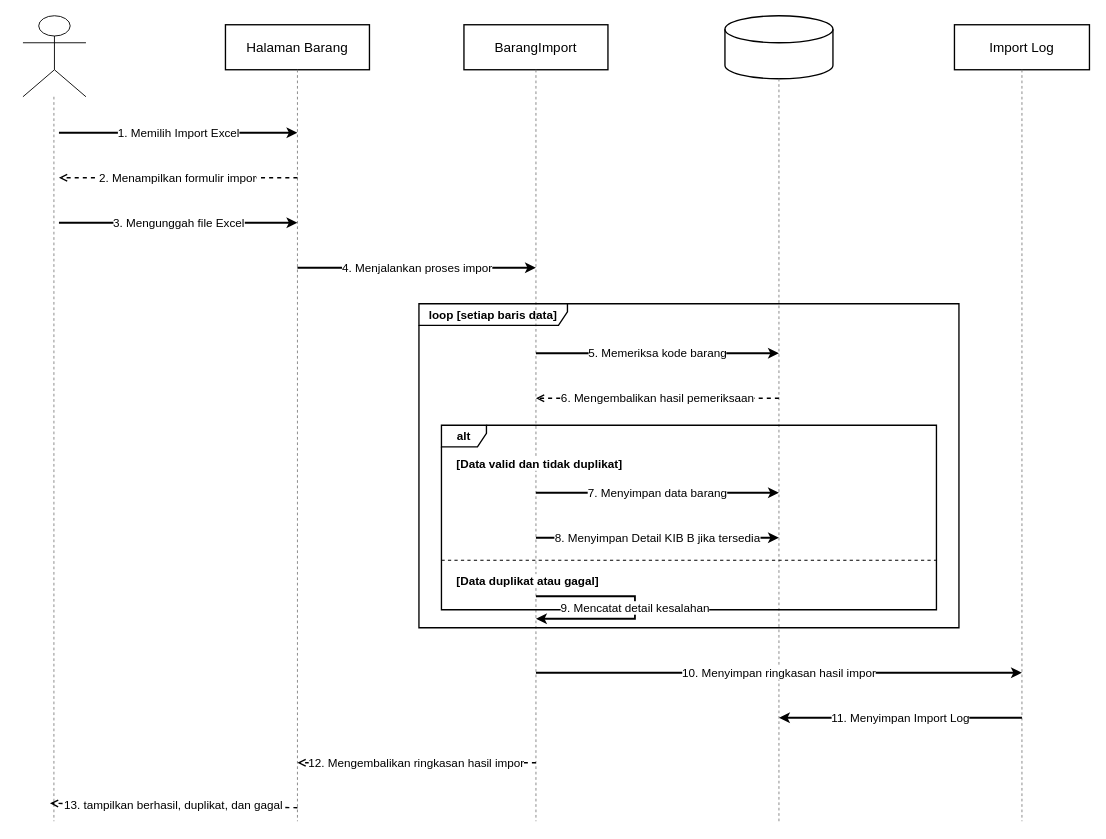
This 1106x839 diagram has some shape labels left out. Each missing label, with the centre of its shape:
Admin / Staff: the point at 54,56
Database: the point at 778,47
